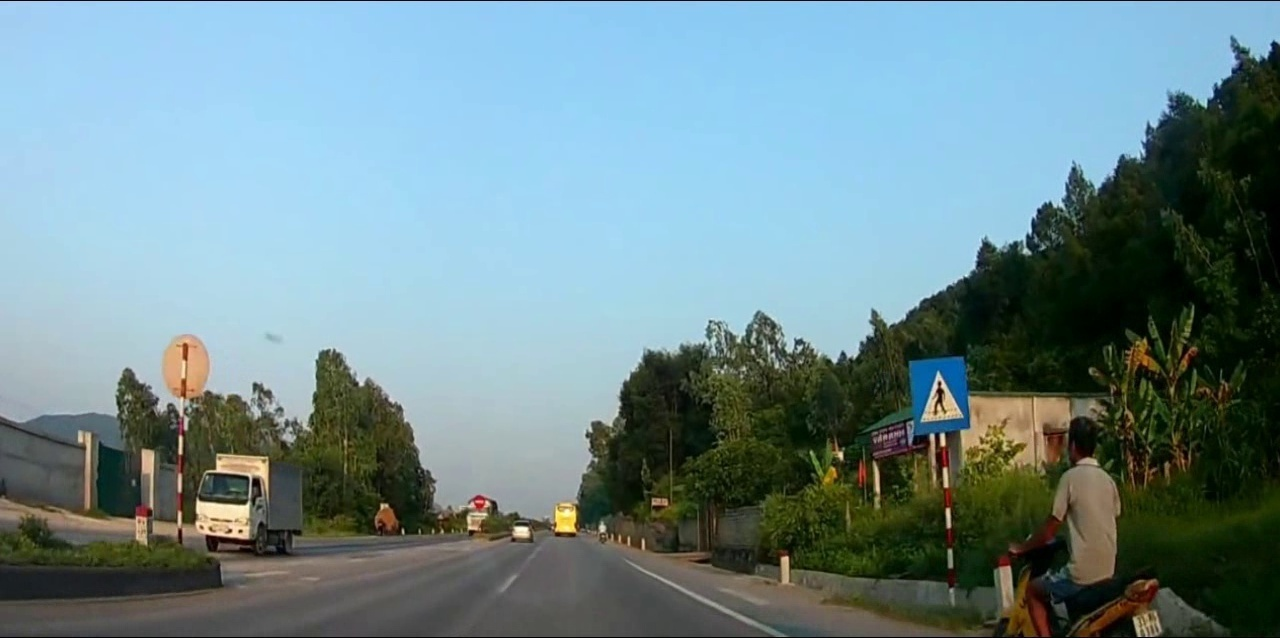Cam di nguoc chieu: (473, 494, 485, 509)
Nguoi di bo: (906, 356, 970, 433)
